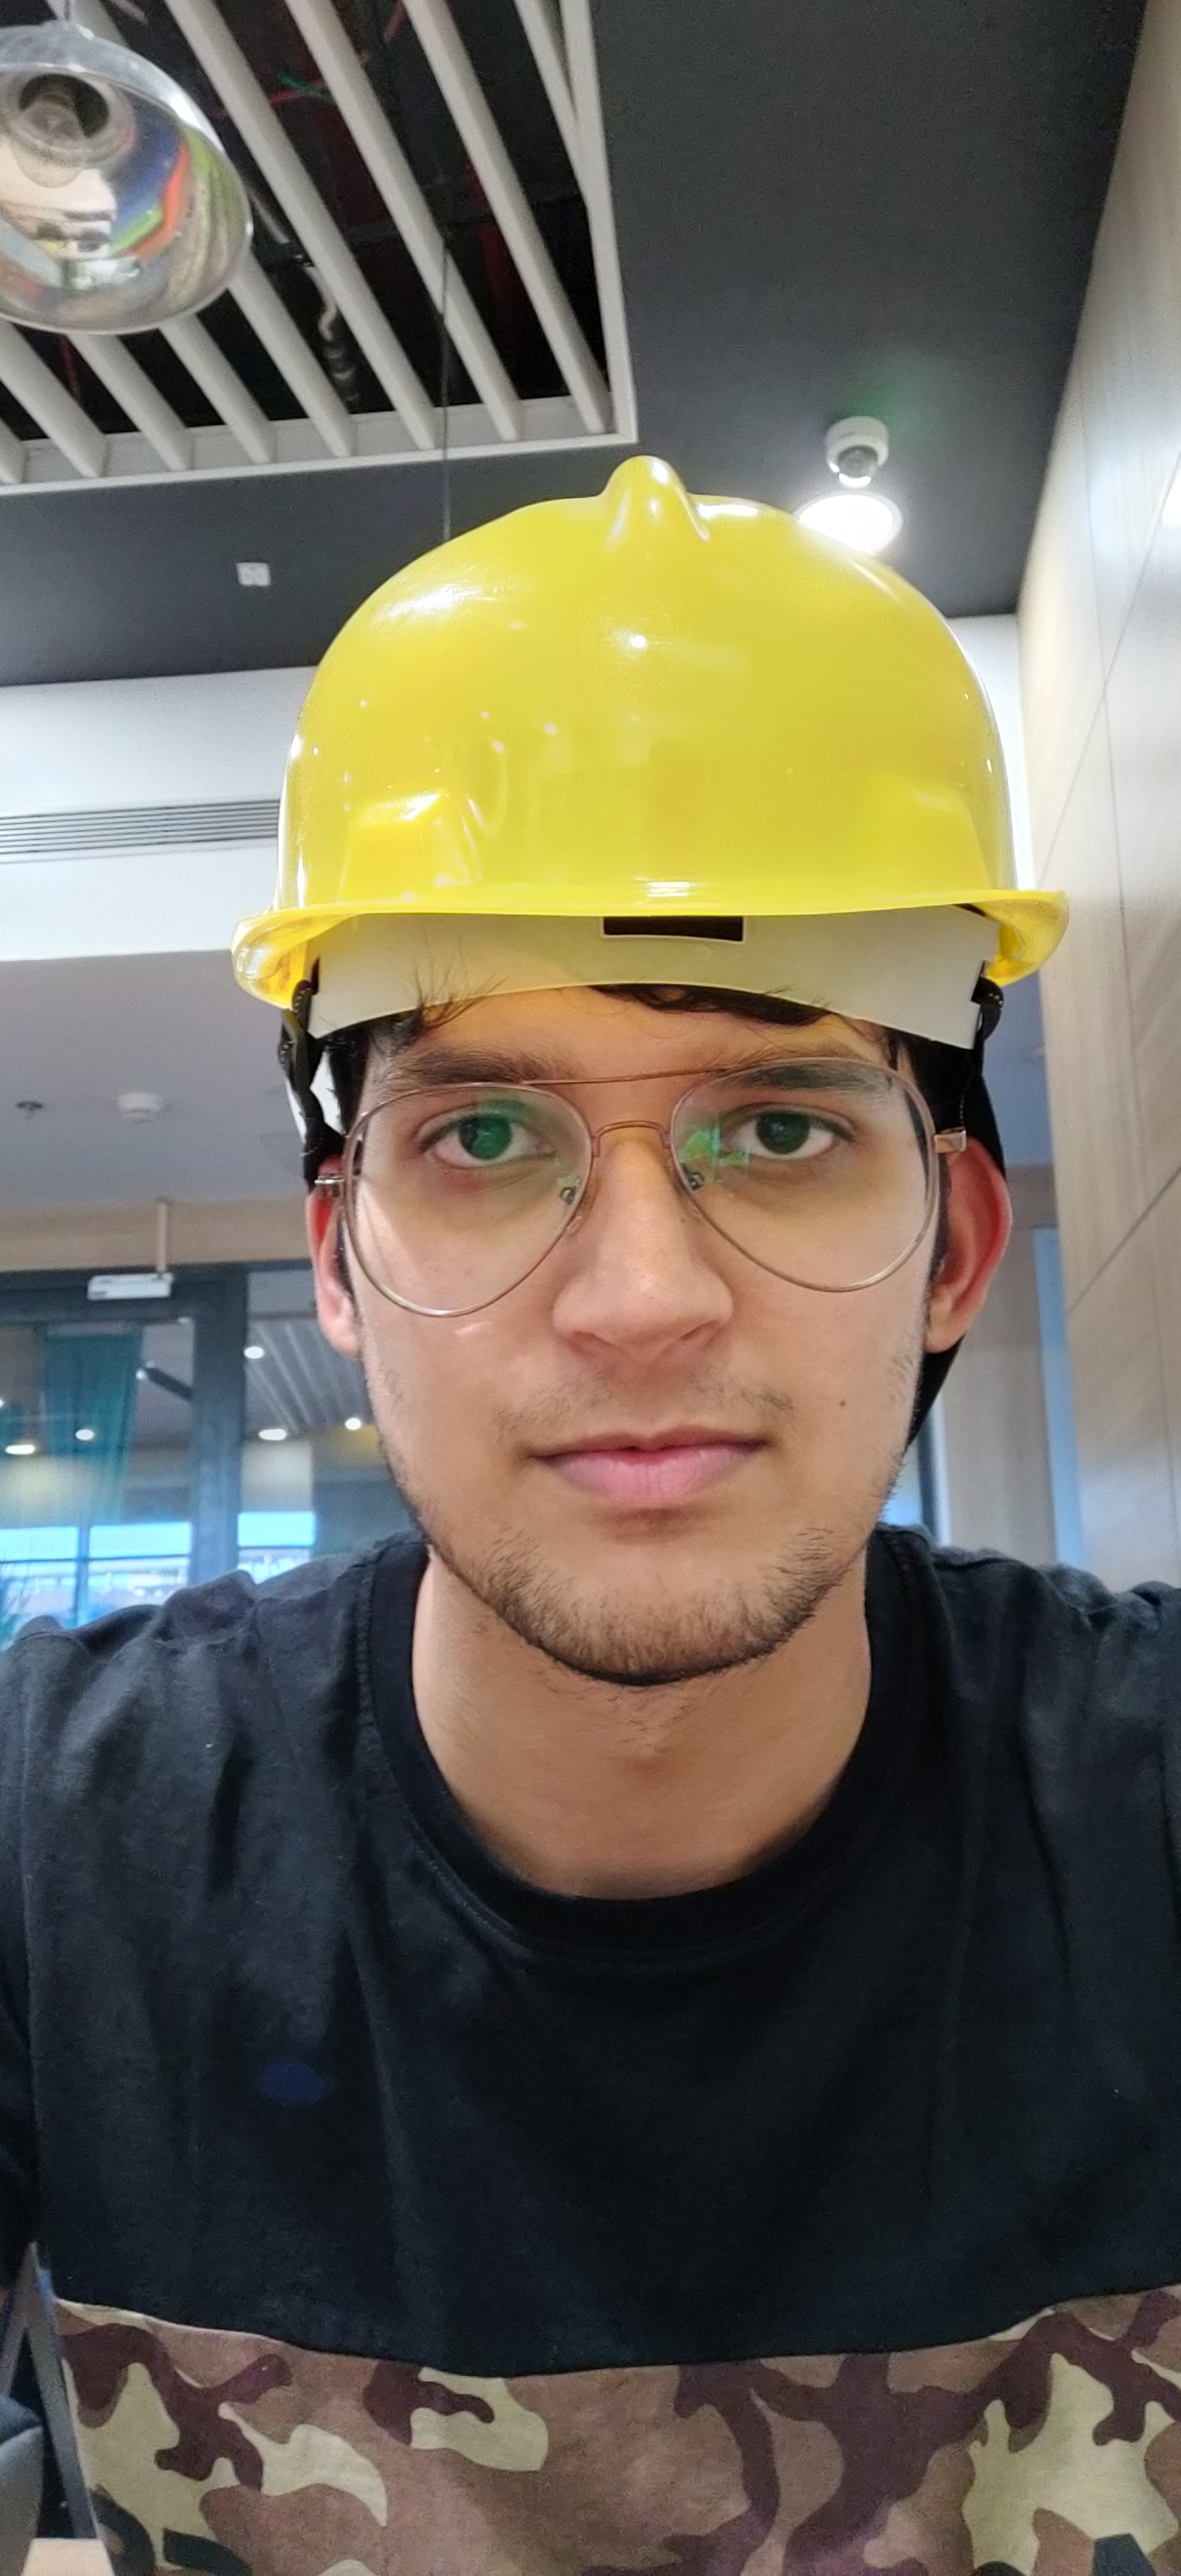Person_wearing_helmet: (226, 466, 1038, 1271)
